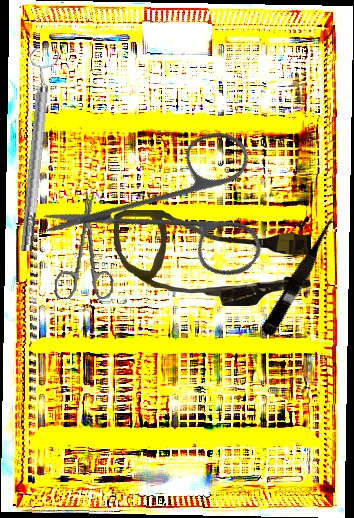Cannula: (114, 210, 311, 306)
Fixation Ring: (8, 47, 63, 253)
Iris Scissors: (37, 74, 309, 346), (53, 189, 122, 303)
Micro Scissor: (259, 210, 345, 340)
